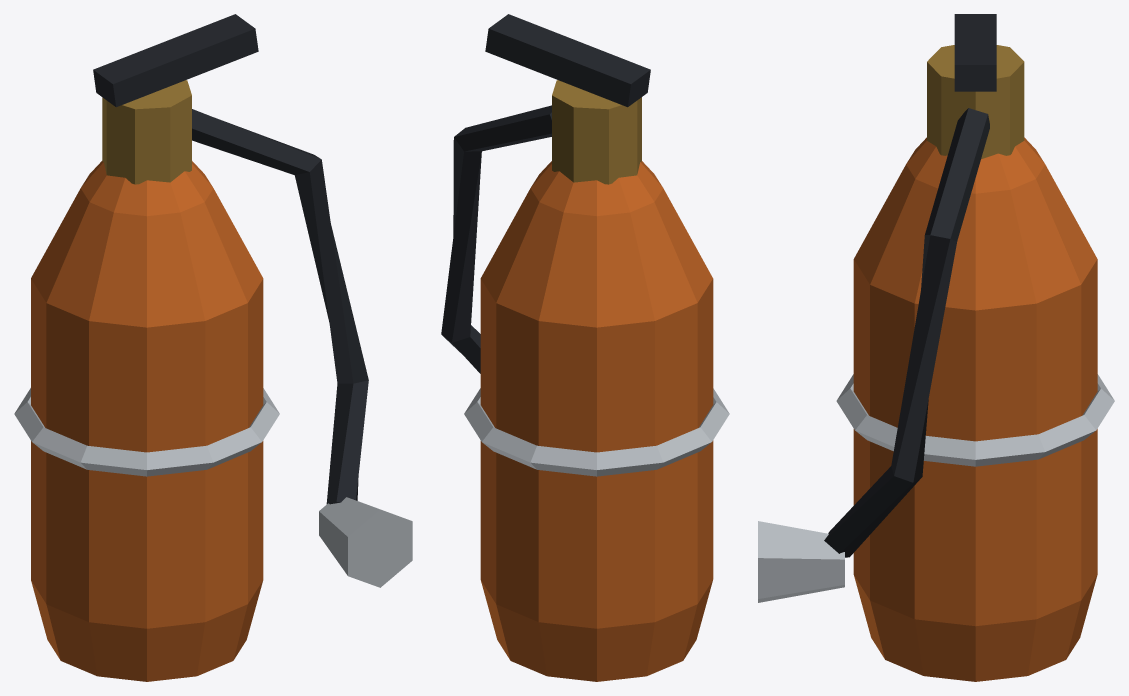
Rendered from fire-extinguisher.glb.
The picture shows the model from 3 angles, left to right: view 1: azimuth 30°, elevation 25°; view 2: azimuth 150°, elevation 25°; view 3: azimuth 270°, elevation 25°; orthographic projection. The views are drawn at different scales.
Visible parts, largest first — view 1: m; view 2: m; view 3: m.
Part boxes in pixels (x1,y1,x2,y2): m: (14, 14, 412, 681); m: (441, 14, 729, 681); m: (758, 14, 1114, 681).
Bounding box in the file's own units: 0.1058 × 0.2 × 0.1038.
